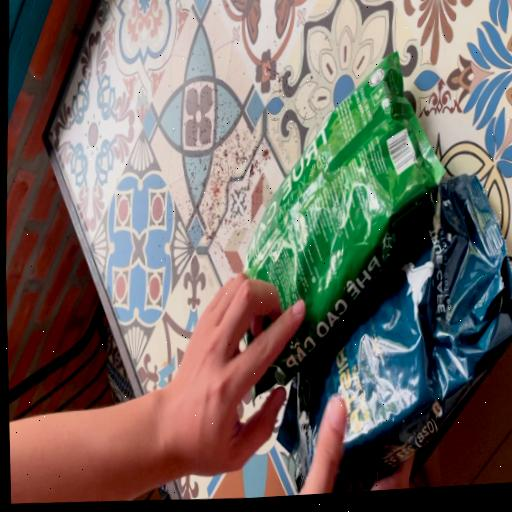cafe_hat: (278, 173, 512, 493)
cafe_xay: (244, 51, 444, 396)
